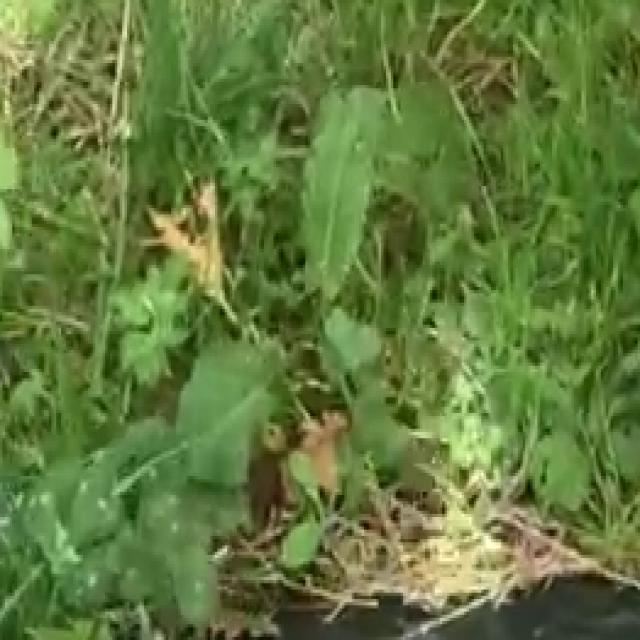organic waste: (20, 331, 310, 634), (249, 41, 467, 347)
